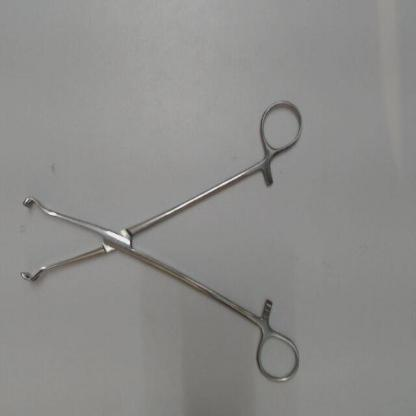8 Babcock Tissue Forceps: (14, 91, 312, 391)
